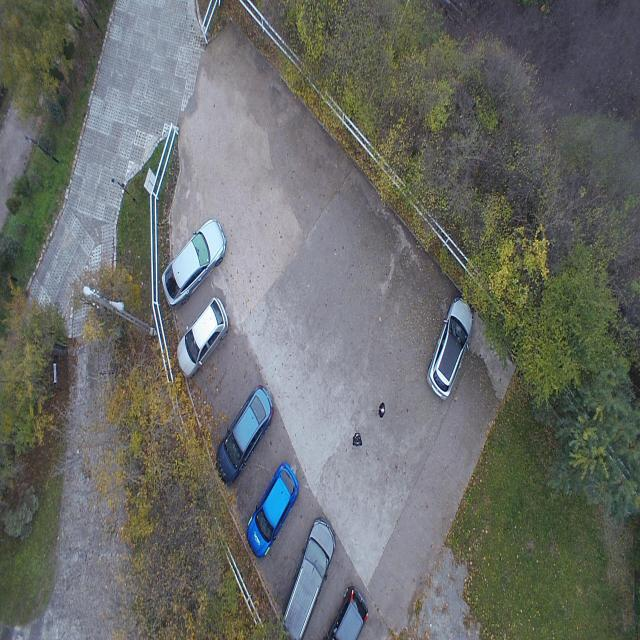p3rson: (352, 432, 362, 447), (378, 402, 386, 418)
